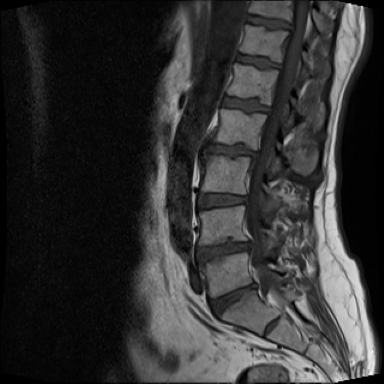Lumbar Disc Bulge (LDB): (195, 270, 272, 325), (189, 219, 261, 270), (191, 128, 276, 163)
Normal IVD: (189, 186, 251, 211), (216, 92, 272, 116)
Spinal Stenosis (SS): (241, 136, 268, 175), (240, 228, 260, 263), (251, 269, 270, 300)
Thoracic Disc Bulge (TDB): (227, 44, 282, 73), (240, 6, 294, 35)
